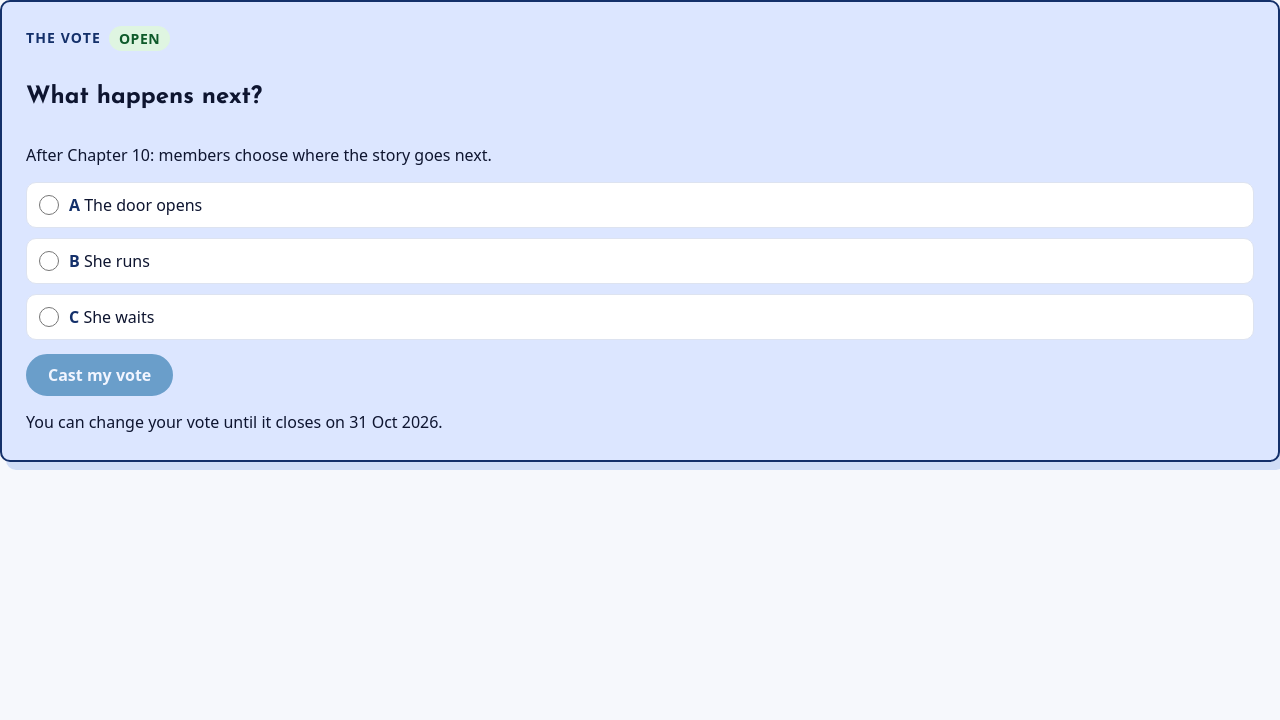
Test: a member › casts a vote: it is saved for them, in that vote, and the box turns into the results with their own choice marked
What coordinates should you click on to do the following:
click the radio button labelled "B She runs"
I would click on:
 (49, 261)
Its box is left=39, top=251, right=59, bottom=271.
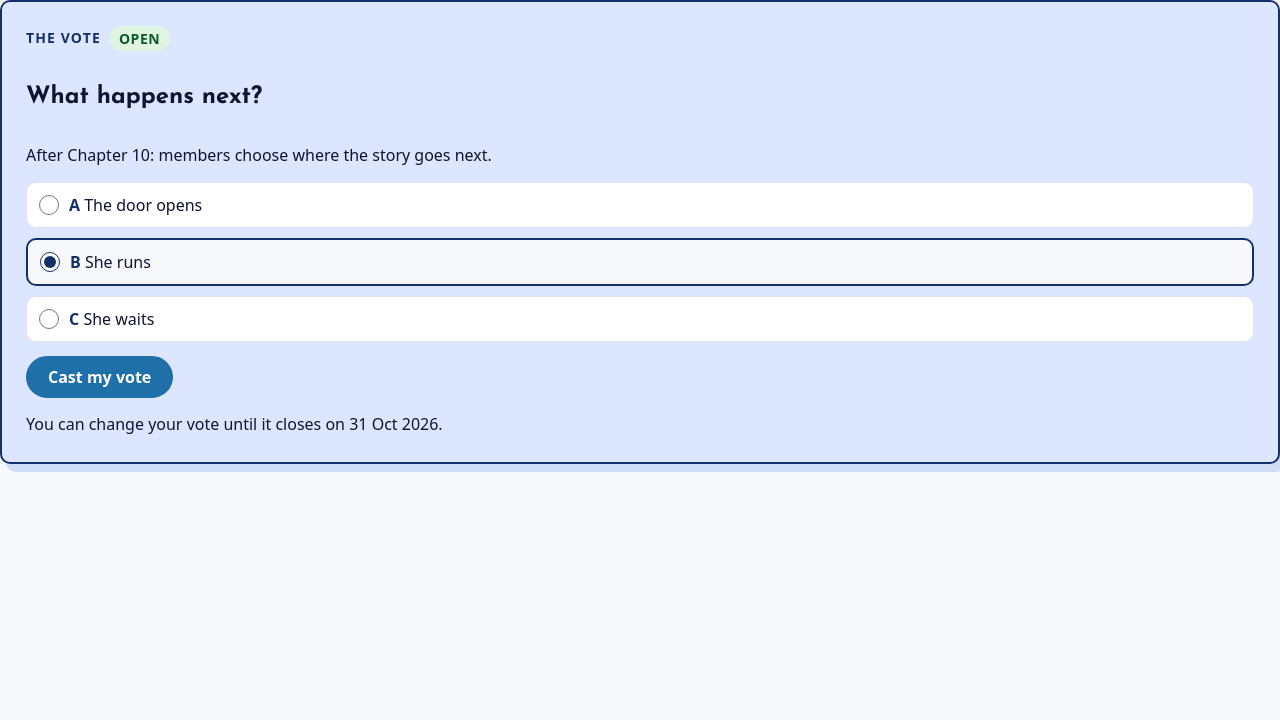
What coordinates should you click on to do the following:
click the button "Cast my vote"
I would click on:
 (100, 377)
Its box is left=26, top=356, right=173, bottom=398.
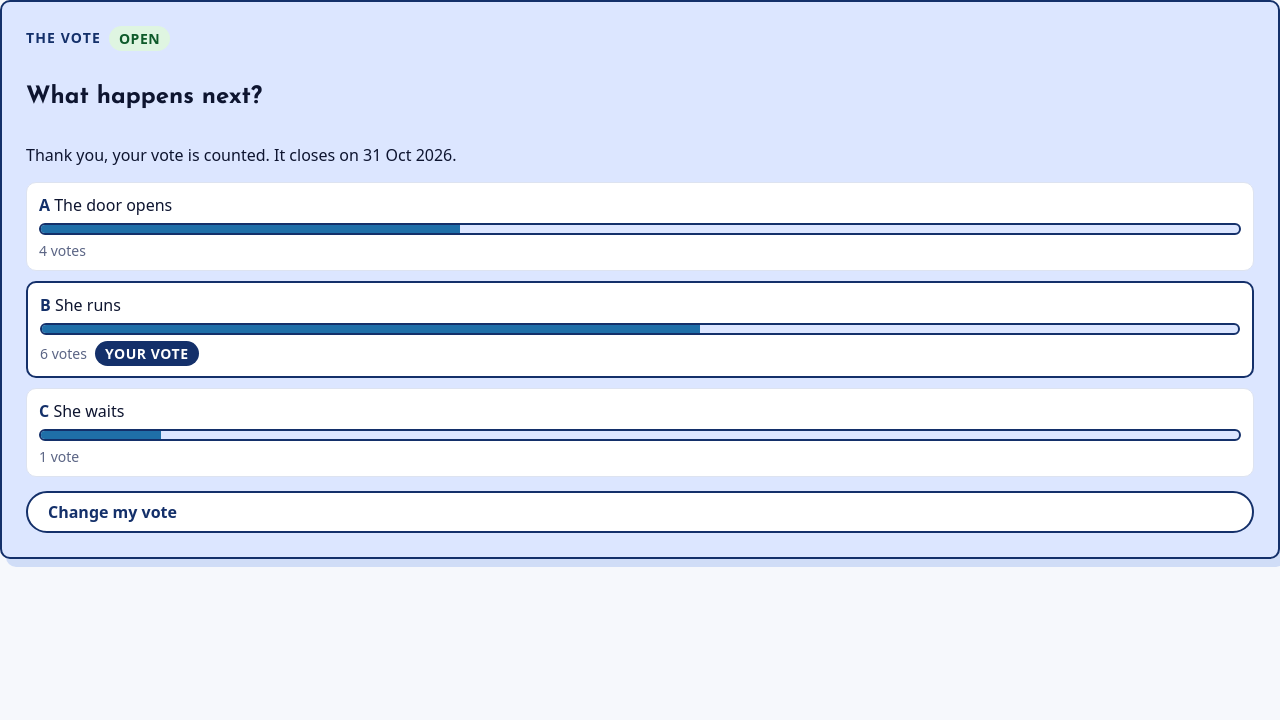
Expected: the text "B She runs" is shown, left=40, top=294, right=121, bottom=316
Expected: the text "Thank you, your vote is counted. It closes on 31 Oct 2026." is shown, left=26, top=144, right=456, bottom=166
Expected: the text "6 votes" is shown, left=40, top=344, right=87, bottom=363
